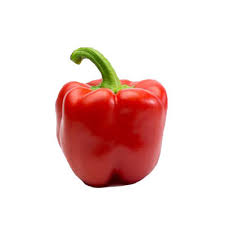bell pepper: (47, 43, 174, 192)
